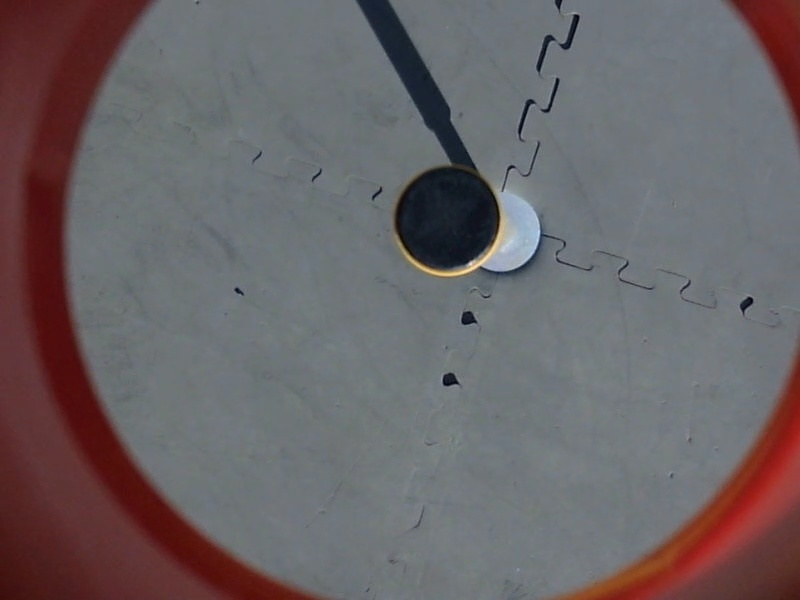tip: (388, 161, 506, 279)
